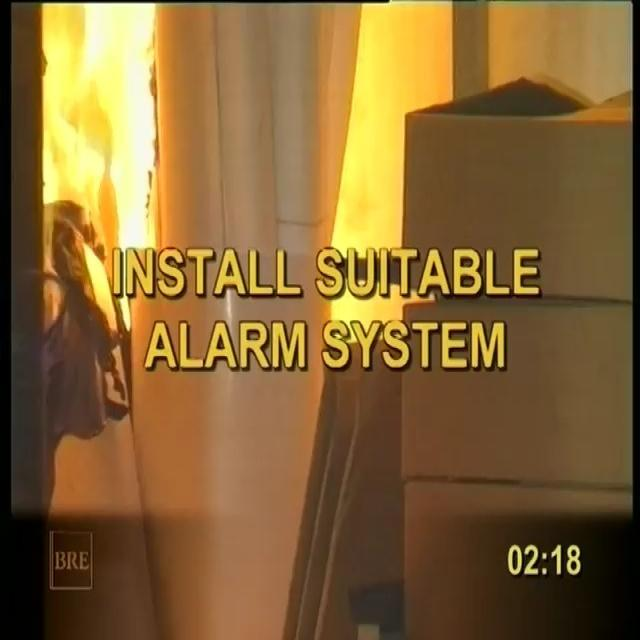Fire: (44, 13, 170, 240)
